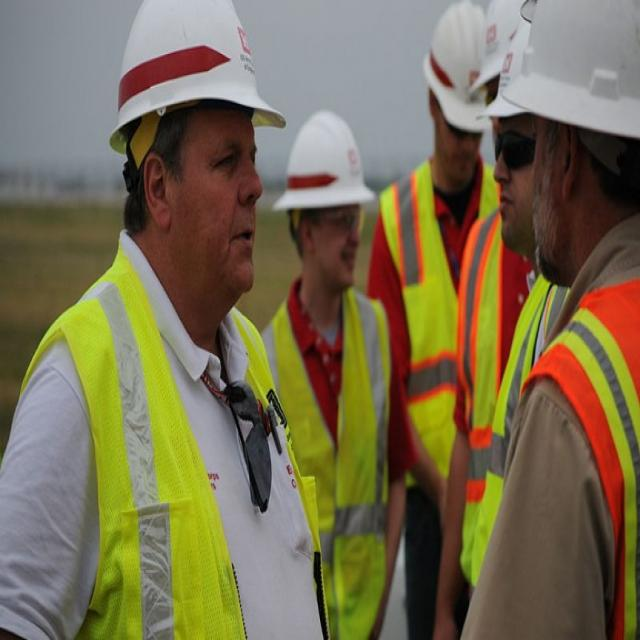Reflective-Jacket: (8, 261, 283, 633), (506, 262, 639, 640), (263, 292, 393, 639), (376, 166, 494, 502)
Safety-Helmet: (105, 1, 285, 162), (486, 0, 640, 143), (274, 101, 373, 222), (421, 2, 489, 132)
